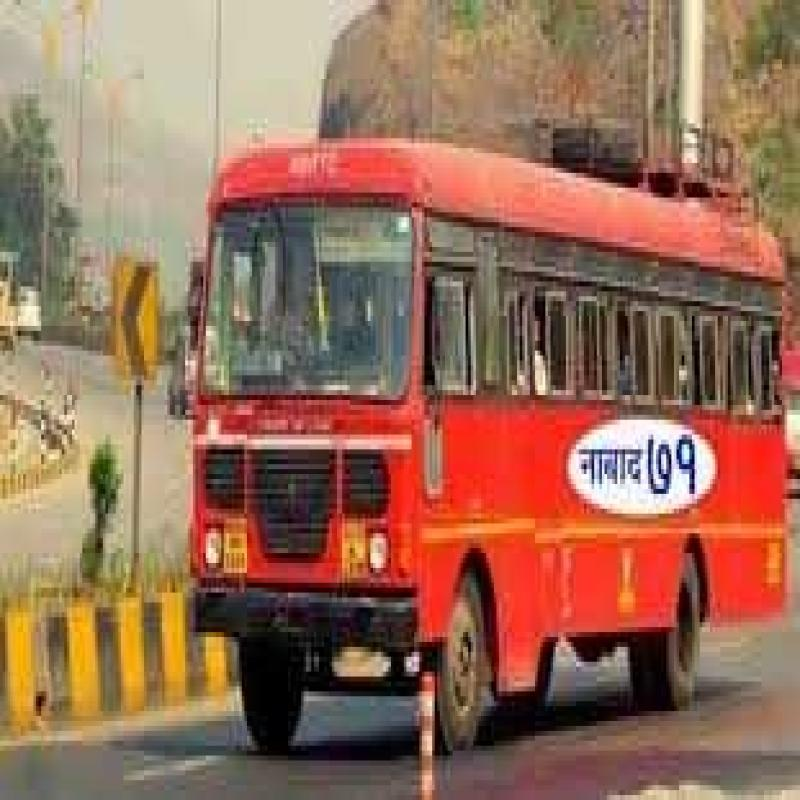bus: (160, 111, 794, 762)
